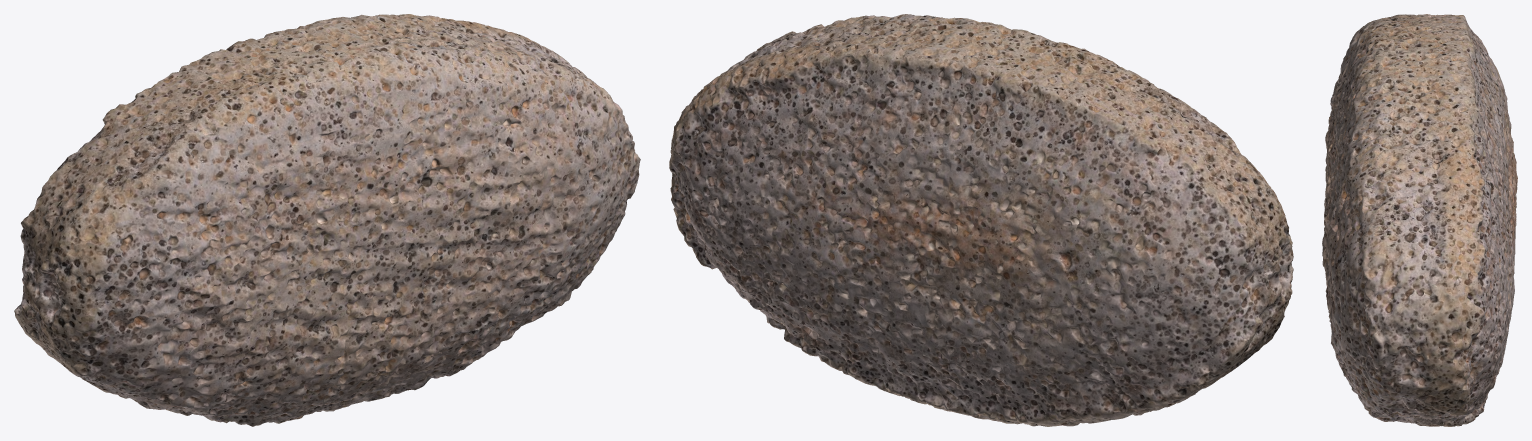
File: pumice.glb
The picture shows the model from 3 angles, left to right: view 1: azimuth 30°, elevation 25°; view 2: azimuth 150°, elevation 25°; view 3: azimuth 270°, elevation 25°; orthographic projection. The views are drawn at different scales.
Visible parts, largest first — view 1: Object_2; view 2: Object_2; view 3: Object_2.
Boxes of the visible parts, x1,y1,x2,y2 form: Object_2: [14, 14, 640, 426]; Object_2: [669, 14, 1293, 426]; Object_2: [1322, 14, 1517, 426].
Size of the model in its own units: 0.09 by 0.052 by 0.0291.
1 material, 1 textured.
